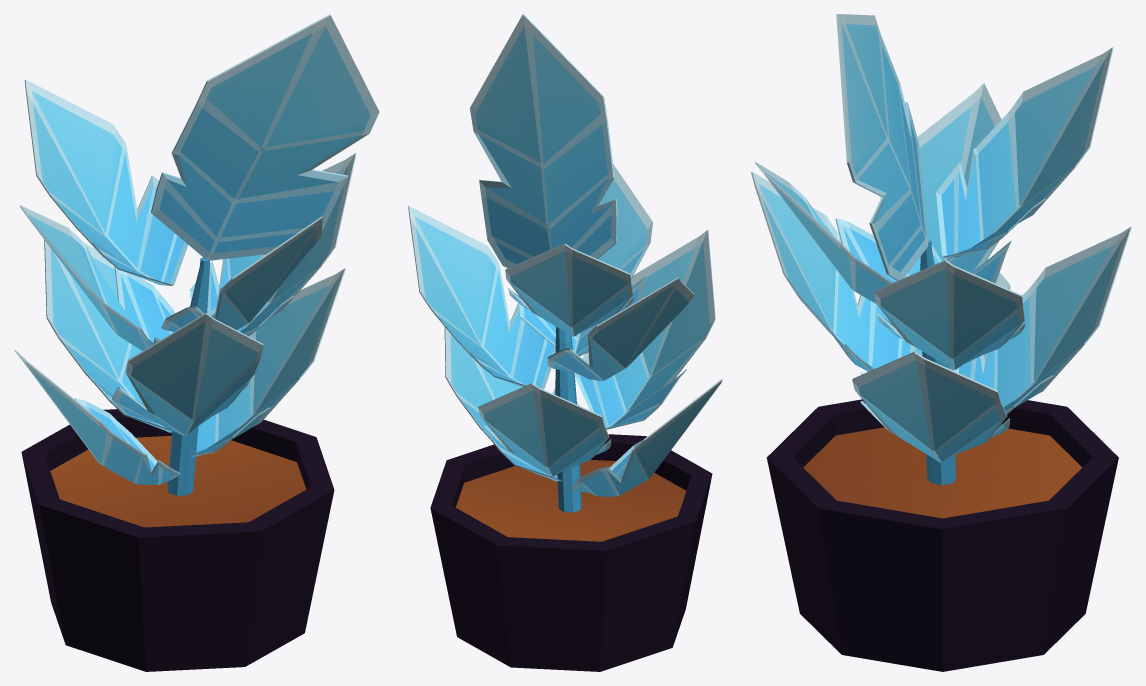
The model's file is Garden_BigFicus.fbx.
3 views of the same model, side by side, from view 1: azimuth 30°, elevation 25°; view 2: azimuth 150°, elevation 25°; view 3: azimuth 270°, elevation 25° (orthographic). The views are drawn at different scales.
Visible parts, largest first — view 1: Plane.014; view 2: Plane.014; view 3: Plane.014.
Boxes of the visible parts, <box> form: Plane.014: <box>14,14,379,671</box>; Plane.014: <box>408,14,722,671</box>; Plane.014: <box>751,14,1131,671</box>.
Size of the model in its own units: 118 by 200 by 106.
